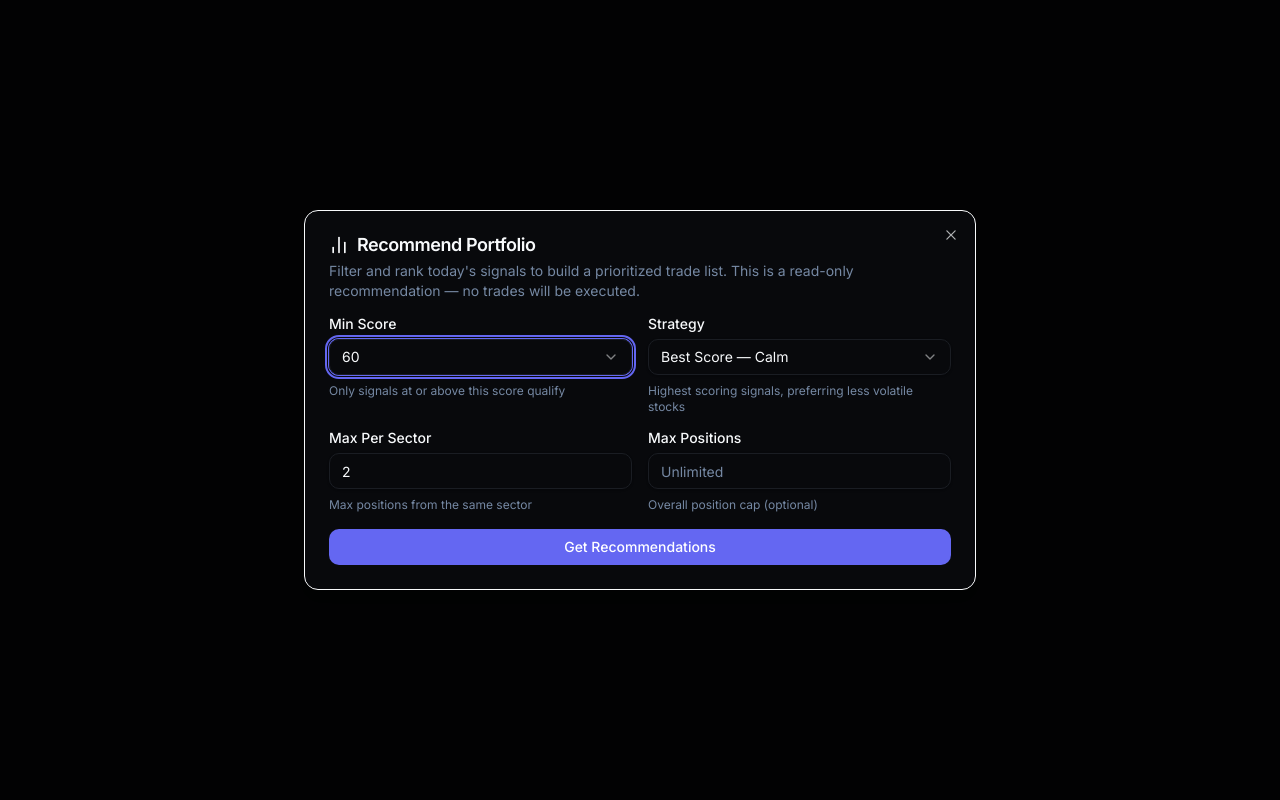
Scenario: RecommendPortfolioDialog › Loading state › disables the button while loading
Click the button "Get Recommendations" at (640,547), box [329,529,951,565]
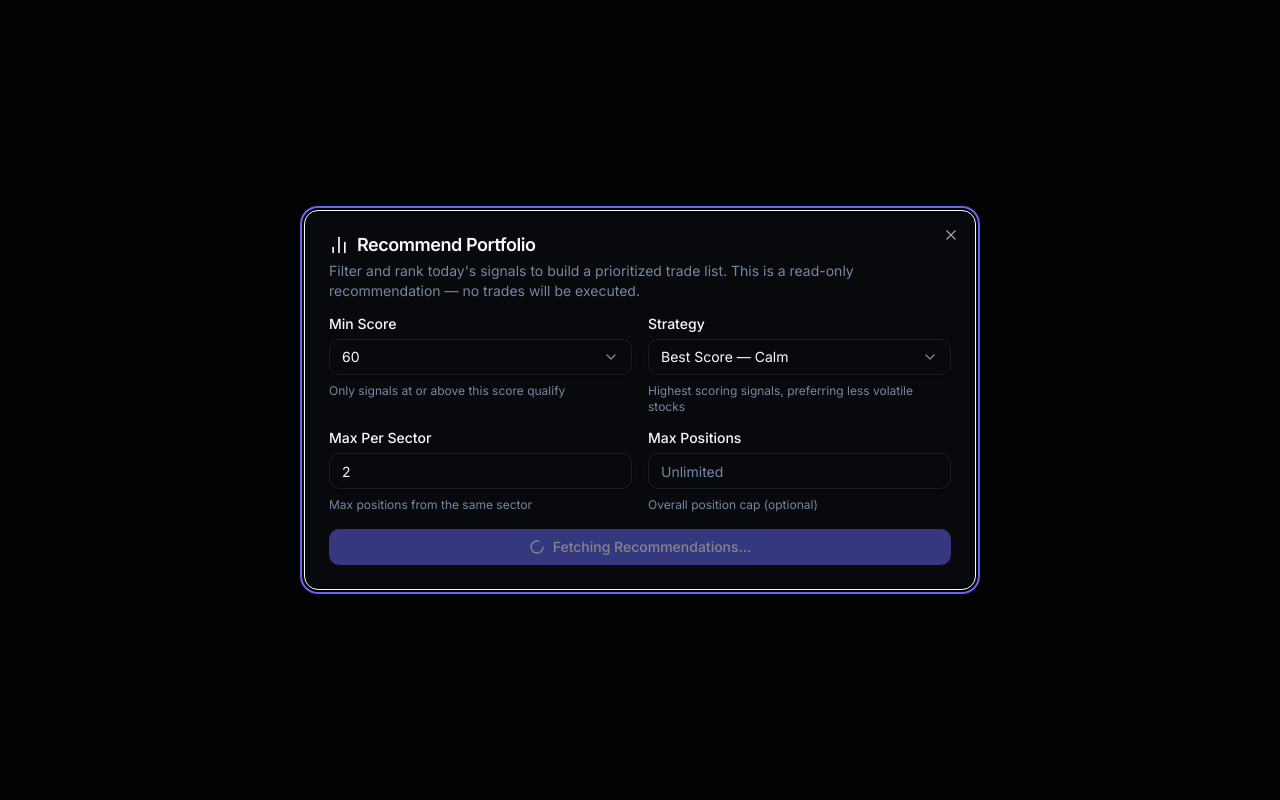
expect the button "Fetching Recommendations..." is disabled: met, box [329,529,951,565]
